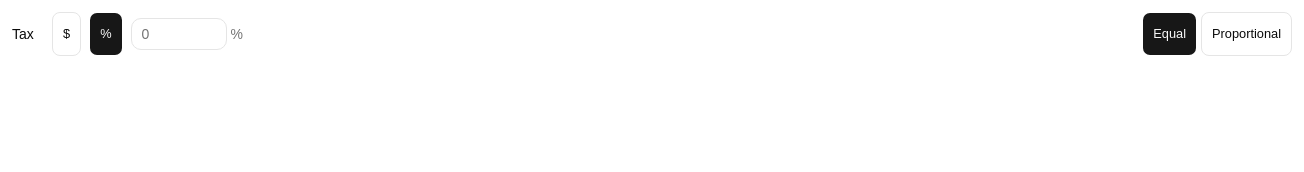
Scenario: TaxControl › TAX-01 empty input does not show error
In the field named "Tax percentage": (178, 34) 130,18 -> 226,50, type "abc"
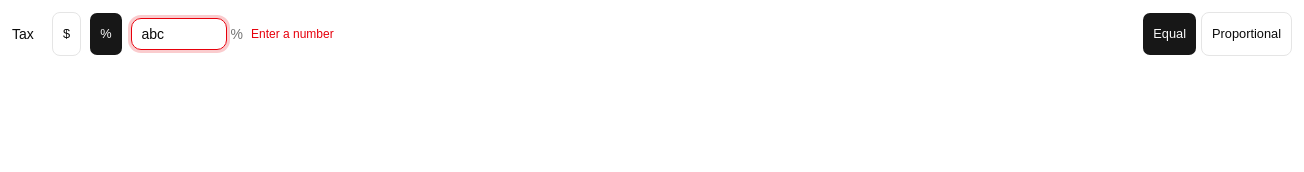
Check: the message "Enter a number" is shown, box 251,26 -> 334,42
Clear the field named "Tax percentage": (178, 34) 130,18 -> 226,50
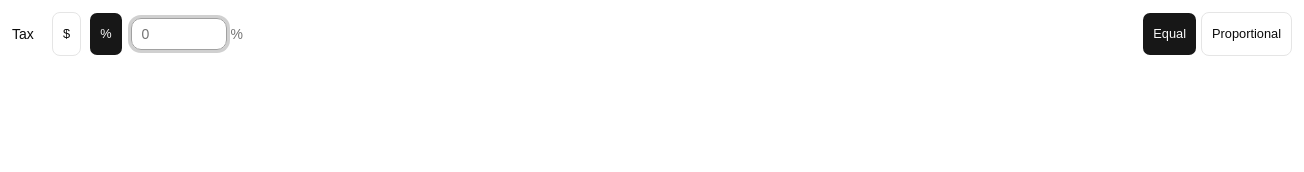
Check: the message "Enter a number" is gone
